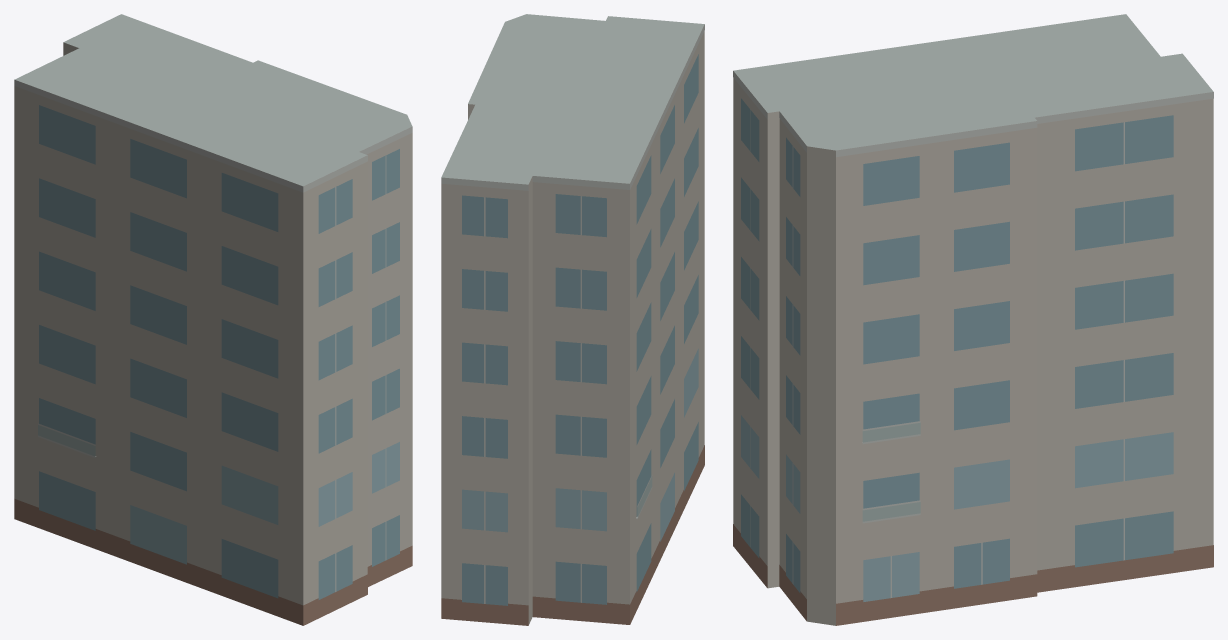
The model's file is survey-upis-33032879.glb.
3 views of the same model, side by side, from view 1: azimuth 30°, elevation 25°; view 2: azimuth 150°, elevation 25°; view 3: azimuth 270°, elevation 25° (orthographic). The views are drawn at different scales.
Parts seen in each view (by area): view 1: survey-upis-33032879.tmp; view 2: survey-upis-33032879.tmp; view 3: survey-upis-33032879.tmp.
Part boxes in pixels (left/top/right/bottom): survey-upis-33032879.tmp: left=14, top=14, right=412, bottom=625; survey-upis-33032879.tmp: left=441, top=14, right=704, bottom=625; survey-upis-33032879.tmp: left=733, top=14, right=1213, bottom=625.
Size of the model in its own units: 10.6 by 17.2 by 15.77.
